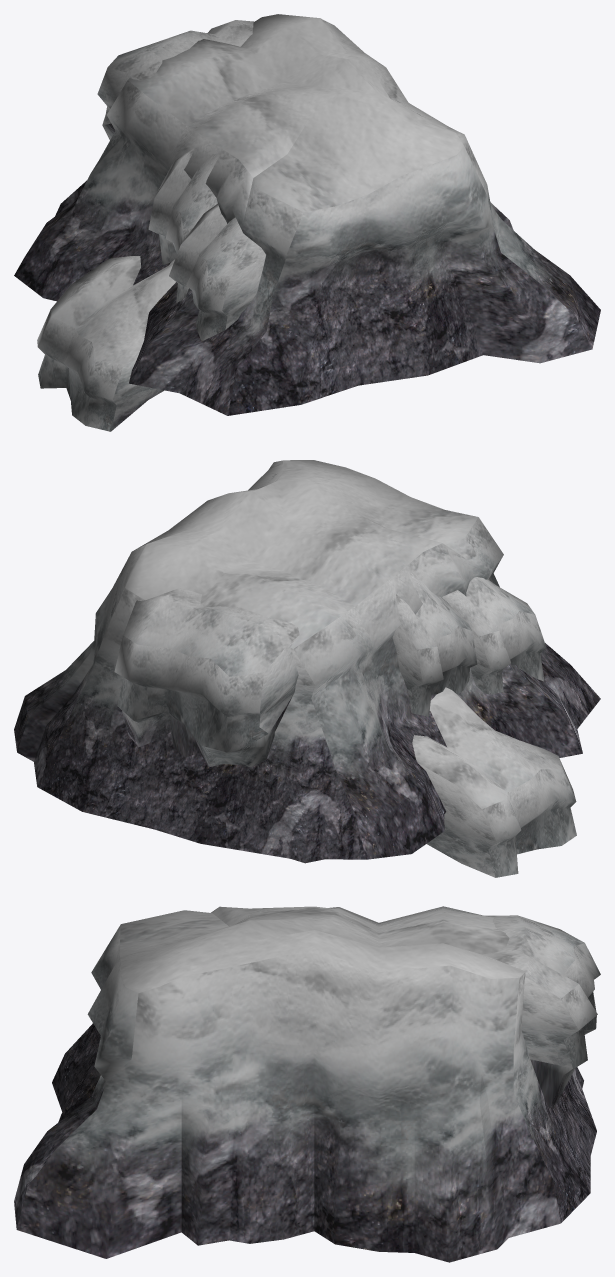
The model's file is snow_d_n01b.fbx.
3 renders of one model, top to bottom at view 1: azimuth 30°, elevation 25°; view 2: azimuth 150°, elevation 25°; view 3: azimuth 270°, elevation 25°, orthographic. The views are drawn at different scales.
Parts seen in each view (by area): view 1: snow_d_n01b; view 2: snow_d_n01b; view 3: snow_d_n01b.
Part boxes in pixels (x1,y1,x2,y2): snow_d_n01b: (14,14,600,431); snow_d_n01b: (14,460,600,877); snow_d_n01b: (14,906,600,1262).
Size of the model in its own units: 1282 by 764 by 1320.
1 material, 1 textured.
